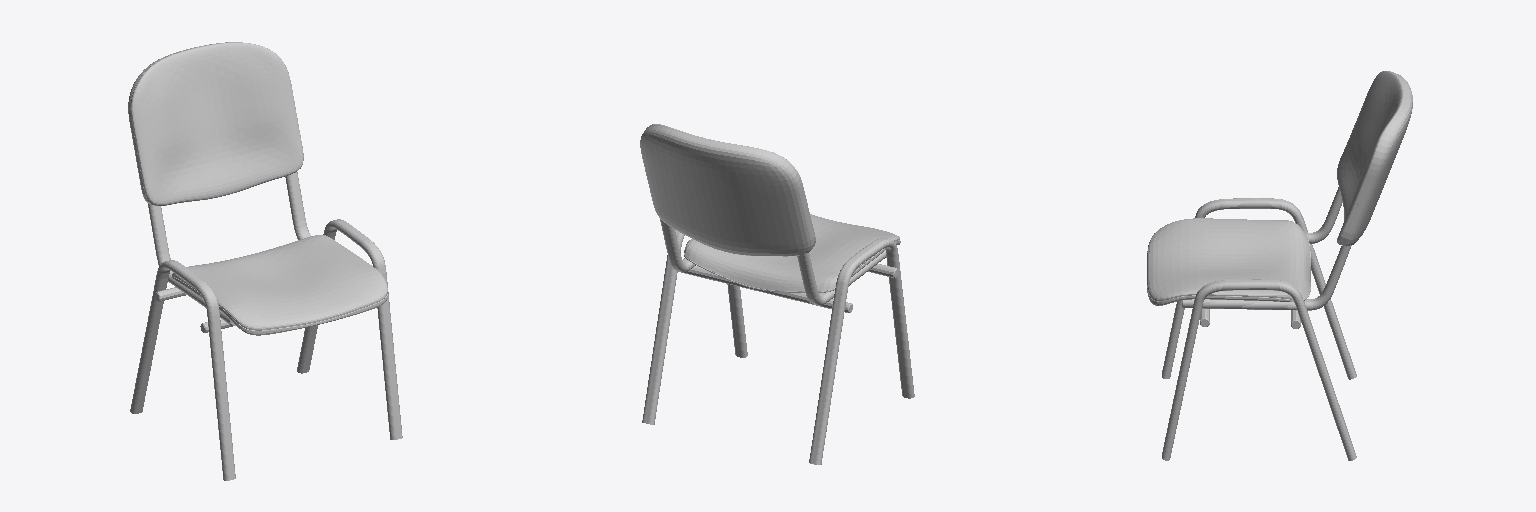
File: chair.obj
The picture shows the model from 3 angles: view 1: azimuth 30°, elevation 25°; view 2: azimuth 150°, elevation 25°; view 3: azimuth 270°, elevation 25°; orthographic projection.
Visible parts, largest first — view 1: Chair_BackCushion, Chair_SeatCushion, Chair_RightLeg, Chair_LeftLeg, Chair_Right, Chair_Left, Chair_SeatPlastic; view 2: Chair_BackPlastic, Chair_SeatCushion, Chair_RightLeg, Chair_LeftLeg, Chair_Right, Chair_Back, Chair_Left; view 3: Chair_SeatCushion, Chair_BackCushion, Chair_LeftLeg, Chair_RightLeg, Chair_BackPlastic, Chair_Left, Chair_Right, Chair_SeatPlastic.
Part boxes in pixels (x1,y1,x2,y2): Chair_BackCushion: (131,42,303,205); Chair_SeatCushion: (172,235,387,330); Chair_RightLeg: (130,260,235,480); Chair_LeftLeg: (297,219,402,439); Chair_Right: (148,204,235,325); Chair_Left: (285,172,310,239); Chair_SeatPlastic: (172,276,388,335); Chair_BackPlastic: (640,126,814,256); Chair_SeatCushion: (684,214,899,291); Chair_RightLeg: (809,238,914,464); Chair_LeftLeg: (642,230,747,424); Chair_Right: (797,250,885,305); Chair_Back: (678,266,852,312); Chair_Left: (660,219,695,271); Chair_SeatCushion: (1147,218,1310,300); Chair_BackCushion: (1337,71,1405,244); Chair_LeftLeg: (1162,279,1356,460); Chair_RightLeg: (1162,198,1356,379); Chair_BackPlastic: (1341,72,1412,246); Chair_Left: (1182,245,1351,310); Chair_Right: (1306,187,1342,243); Chair_SeatPlastic: (1147,239,1310,305).
Bounding box in the file's own units: 48 × 81.84 × 60.88.